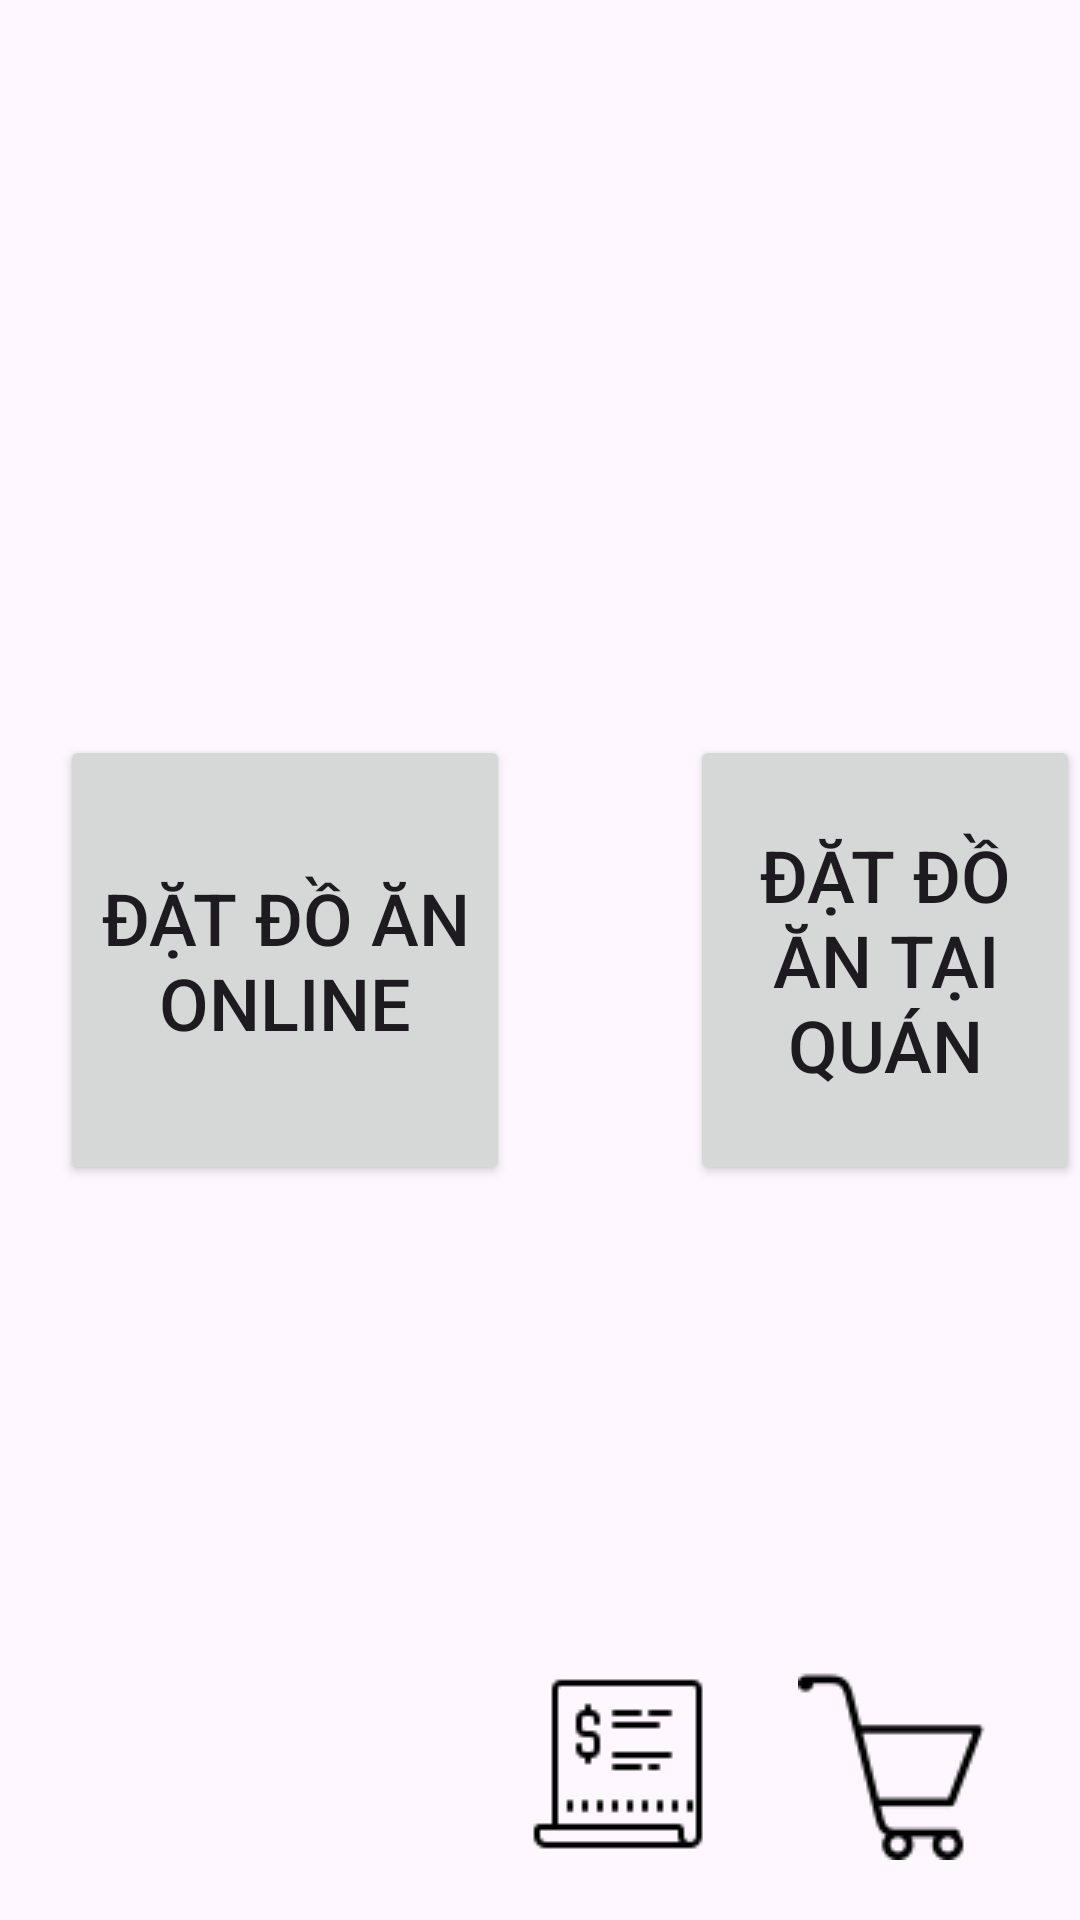

Icons on this 1080 x 1920 Android screen, each with its box as box=[x1, y1, x2, y2]:
cart: box=[798, 1673, 985, 1860]
order: box=[533, 1679, 703, 1849]
